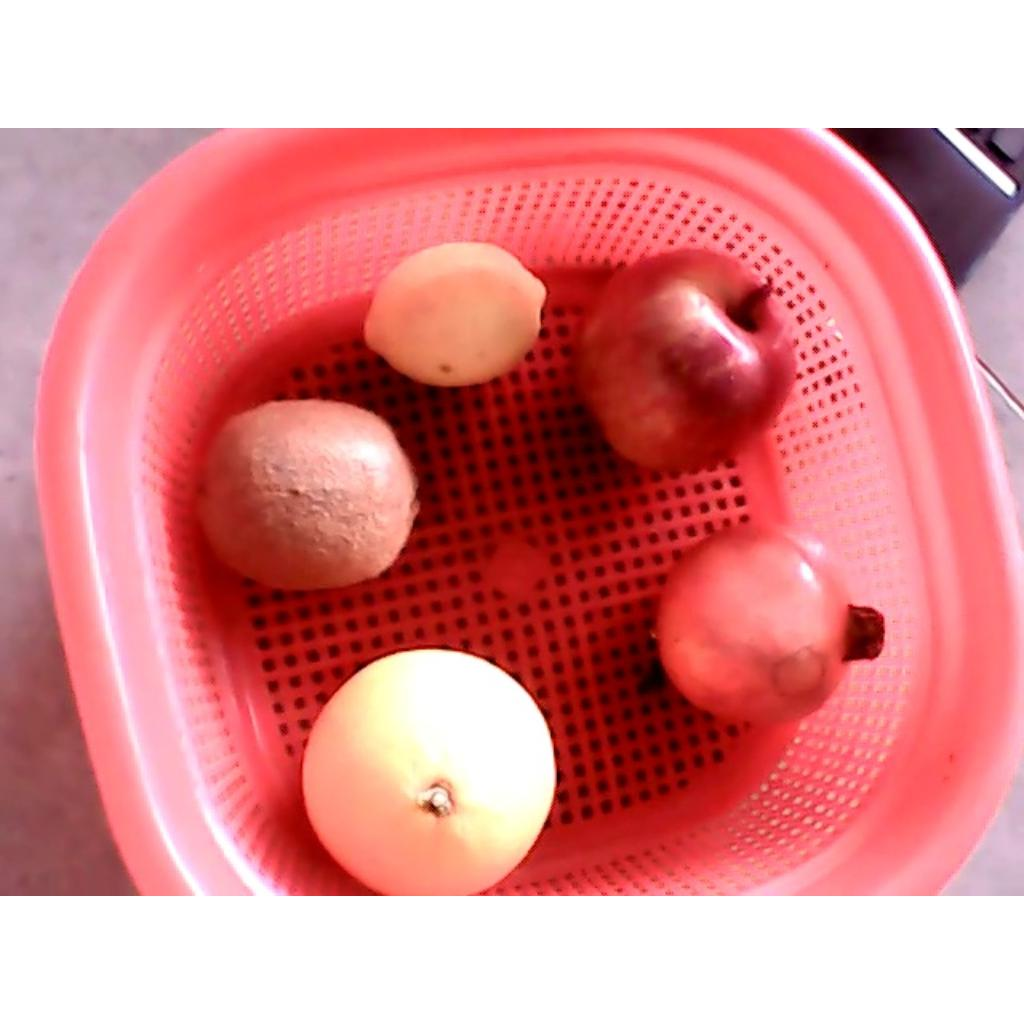apple: (573, 246, 798, 475)
kiwi: (194, 399, 423, 590)
lemon: (363, 240, 550, 386)
orange: (301, 648, 557, 894)
pomegranate: (652, 520, 885, 729)
